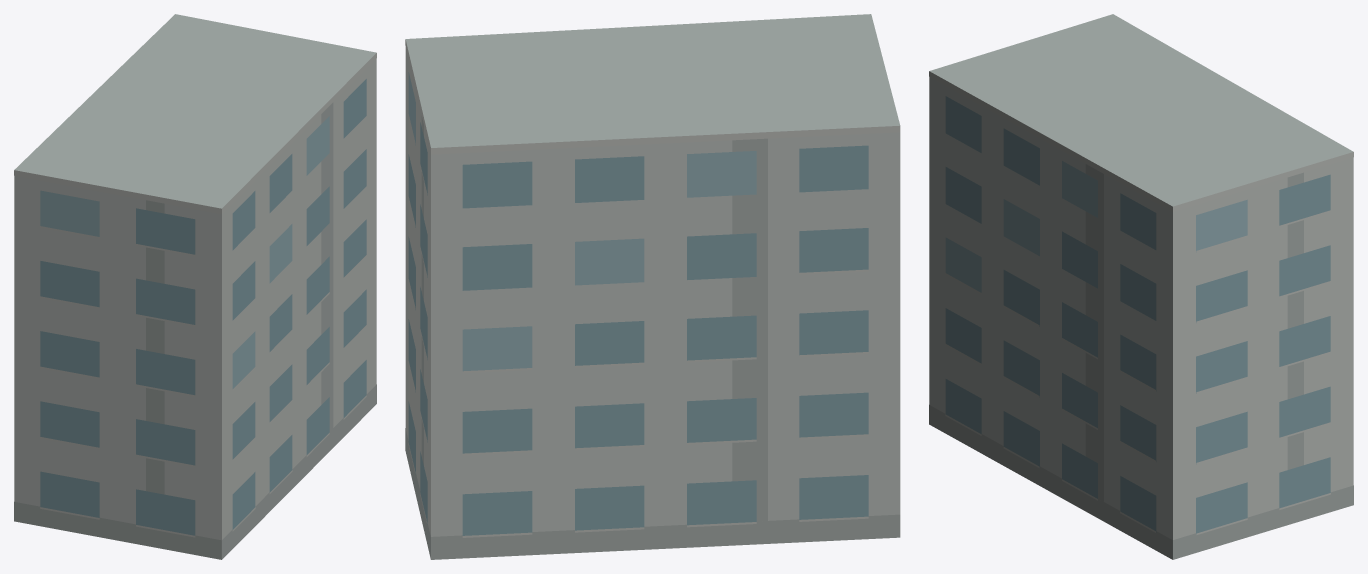
The model's file is survey-upis-32731289.glb.
3 renders of one model, left to right at view 1: azimuth 30°, elevation 25°; view 2: azimuth 150°, elevation 25°; view 3: azimuth 270°, elevation 25°, orthographic. The views are drawn at different scales.
Visible parts, largest first — view 1: survey-upis-32731289.tmp; view 2: survey-upis-32731289.tmp; view 3: survey-upis-32731289.tmp.
Part boxes in pixels (<box>): survey-upis-32731289.tmp: <box>14,14,376,559</box>; survey-upis-32731289.tmp: <box>405,14,900,559</box>; survey-upis-32731289.tmp: <box>929,14,1353,559</box>.
Bounding box in the file's own units: 17.83 × 15.25 × 16.62.
